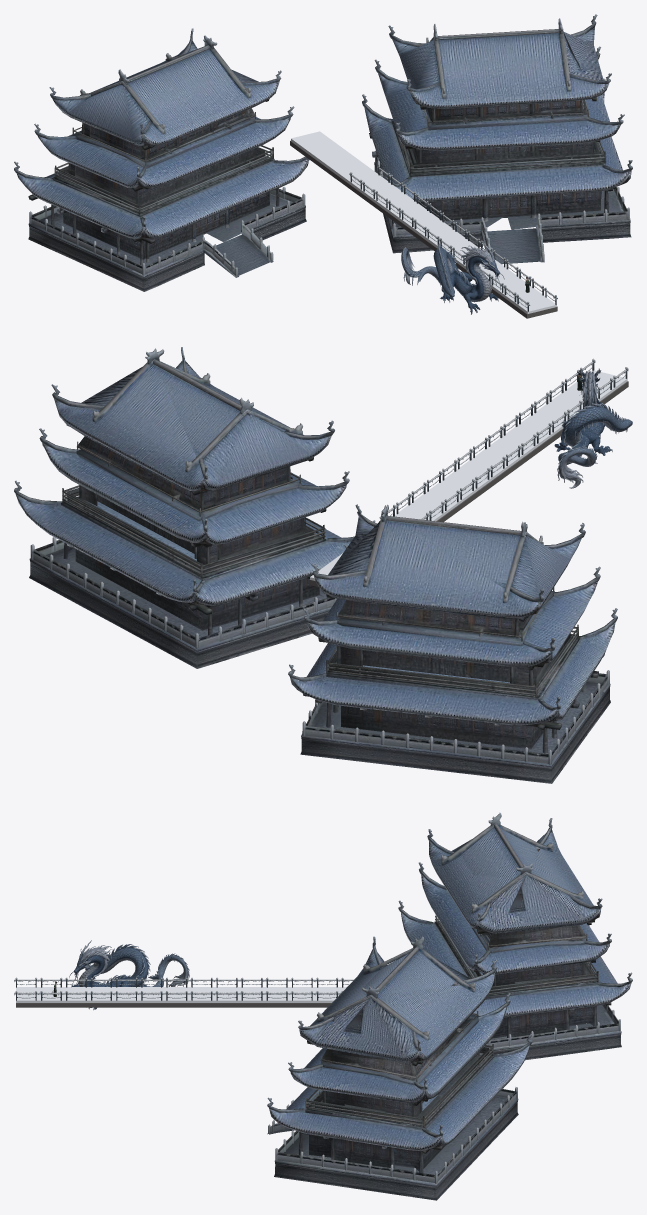
Rendered from room.glb.
The picture shows the model from 3 angles, top to bottom: view 1: azimuth 30°, elevation 25°; view 2: azimuth 150°, elevation 25°; view 3: azimuth 270°, elevation 25°; orthographic projection. The views are drawn at different scales.
Parts seen in each view (by area): view 1: pavilion_far, pavilion, ENV_BridgeDeck, dragon, ENV_BridgeBeam; view 2: pavilion, pavilion_far, ENV_BridgeDeck, dragon, ENV_BridgeBeam; view 3: pavilion, pavilion_far, ENV_BridgeDeck, dragon, ENV_BridgeBeam.
Part boxes in pixels (x1=…): pavilion_far: x1=14, y1=28, x2=309, y2=291; pavilion: x1=362, y1=14, x2=632, y2=264; ENV_BridgeDeck: x1=291, y1=131, x2=556, y2=313; dragon: x1=401, y1=241, x2=504, y2=314; ENV_BridgeBeam: x1=290, y1=140, x2=557, y2=318; pavilion: x1=14, y1=347, x2=375, y2=668; pavilion_far: x1=288, y1=504, x2=617, y2=783; ENV_BridgeDeck: x1=310, y1=370, x2=627, y2=580; dragon: x1=554, y1=368, x2=632, y2=488; ENV_BridgeBeam: x1=309, y1=381, x2=628, y2=587; pavilion: x1=267, y1=936, x2=532, y2=1200; pavilion_far: x1=398, y1=812, x2=632, y2=1060; ENV_BridgeDeck: x1=16, y1=987, x2=346, y2=1002; dragon: x1=69, y1=940, x2=189, y2=1010; ENV_BridgeBeam: x1=16, y1=1003, x2=478, y2=1007.
Size of what is drawn, in the model's own units: 61.38 by 21.09 by 64.16.
6 materials, 4 textured.
